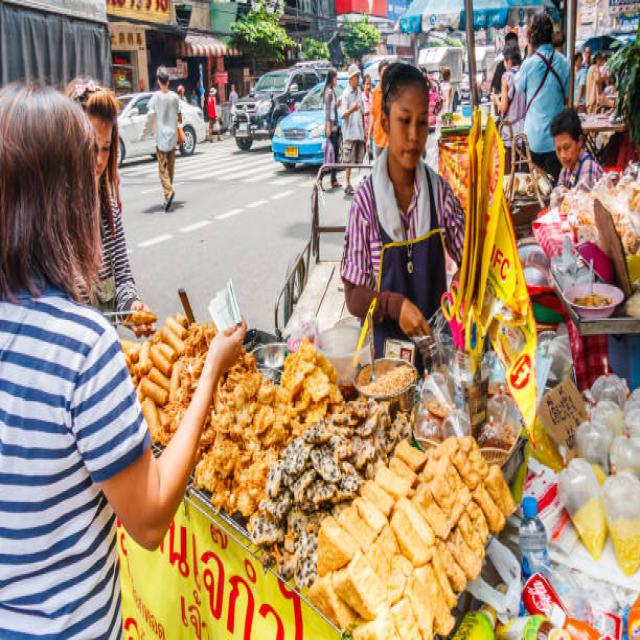Emperan: (86, 78, 640, 640)
